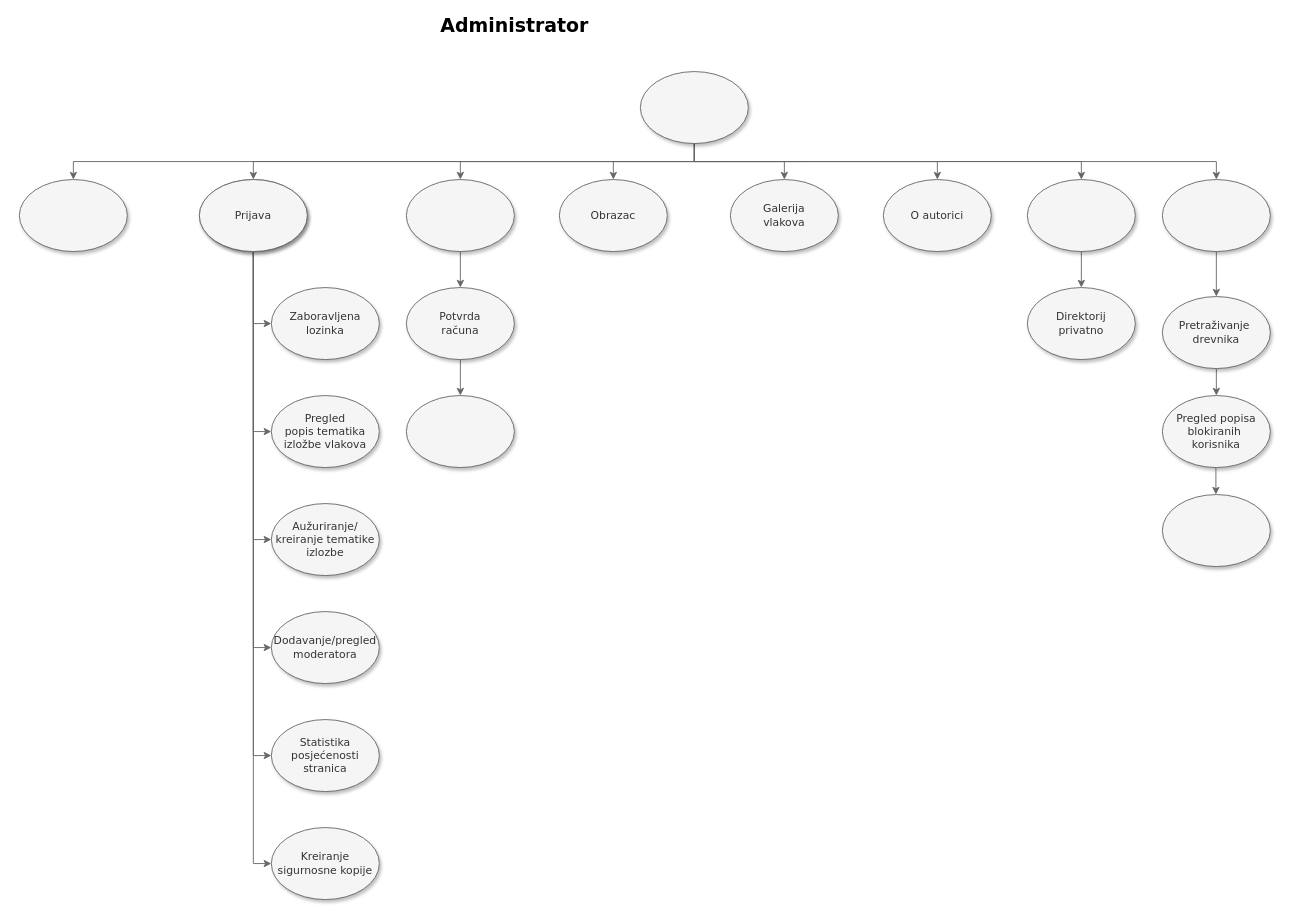
This 1292x922 diagram has some shape labels left out. Each missing label, with the centre of its shape:
"Aktivacija" goes at (x=461, y=432).
"Direktorij" goes at (x=1082, y=216).
"Dnevnik rada (logova)" goes at (x=1217, y=216).
"Dokumentacija" goes at (x=74, y=216).
"Ispis svih korisnika" goes at (x=1217, y=531).
"Početna stranica" goes at (x=695, y=108).
"Registracija" goes at (x=461, y=216).
